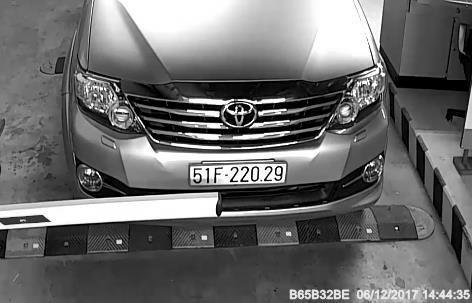License-plate: (185, 156, 293, 196)
